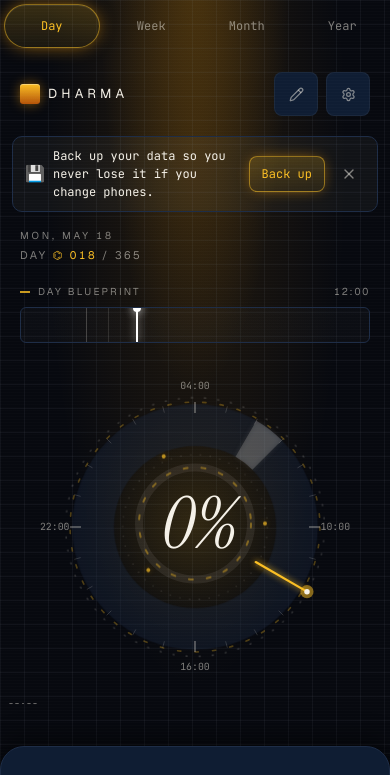
it: C-m9e-009: AppShell — year-branch + monthTarget; single usePersistedState › switching via ViewSwitcher clears monthTarget — direct Month visit shows today's month
This screenshot has width=390, height=775.
(page scrolled)
// Go to Year then switcher-Month — monthTarget is null → today's month
What coordinates should you click on to do the following:
click the tab "Year"
I would click on:
 (342, 26)
Its box is x1=294 y1=0 x2=389 y2=52.
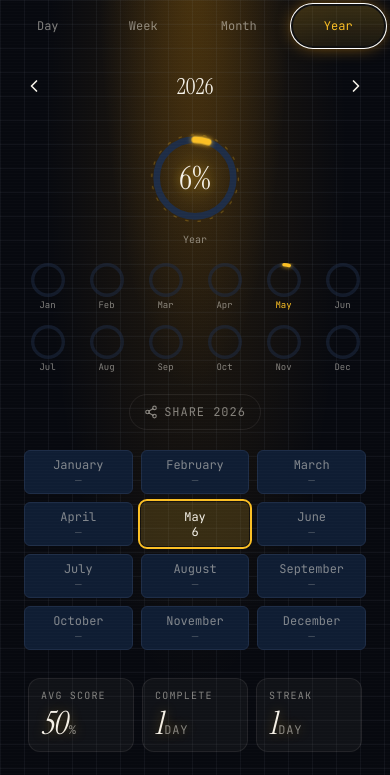
What coordinates should you click on to do the following:
click the tab "Month"
I would click on:
 (239, 26)
Its box is x1=191 y1=0 x2=286 y2=52.
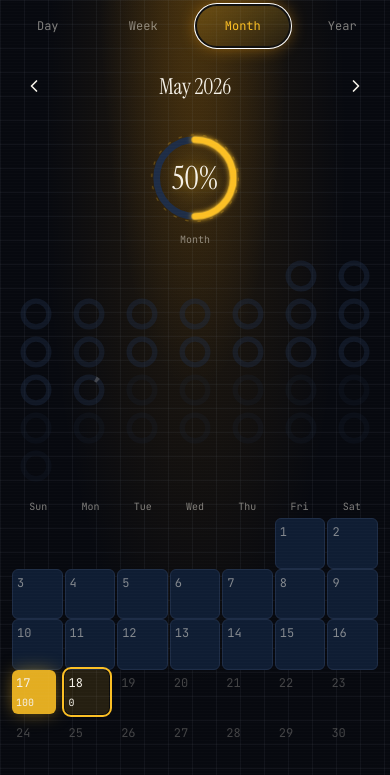
Expected: the heading reads "May 2026", x1=159 y1=72 x2=231 y2=100
// Go to Day then switcher-Month — also today's month
What coordinates should you click on to do the following:
click the tab "Day"
I would click on:
 (48, 26)
Its box is x1=0 y1=0 x2=96 y2=52.
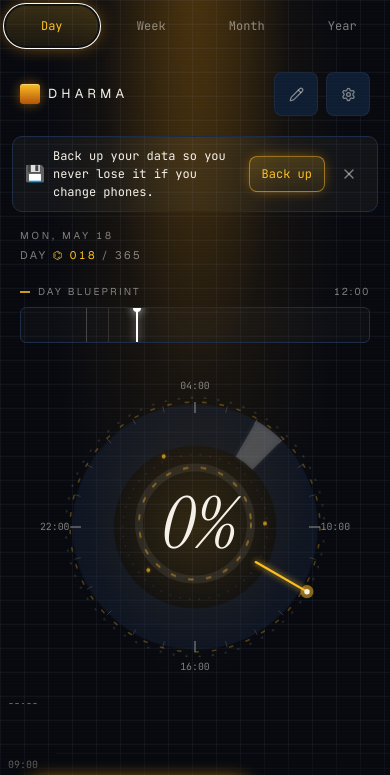
What coordinates should you click on to do the following:
click the tab "Month"
I would click on:
 (247, 26)
Its box is x1=199 y1=0 x2=294 y2=52.
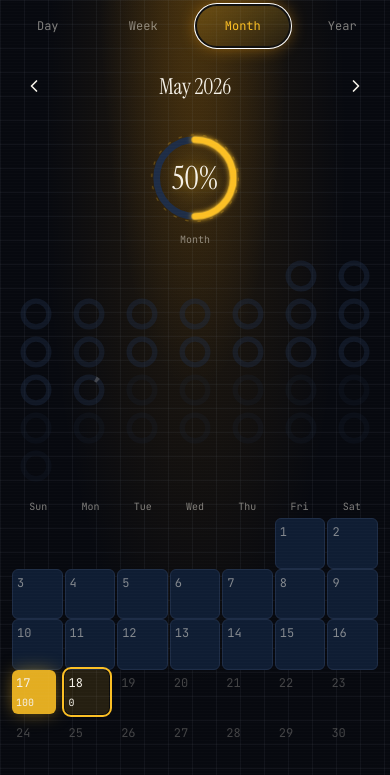
Expected: the heading reads "May 2026", x1=159 y1=72 x2=231 y2=100
